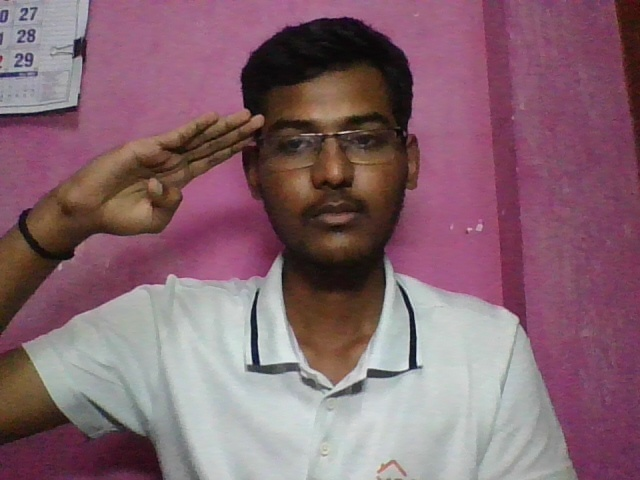Hello: (46, 91, 277, 249)
